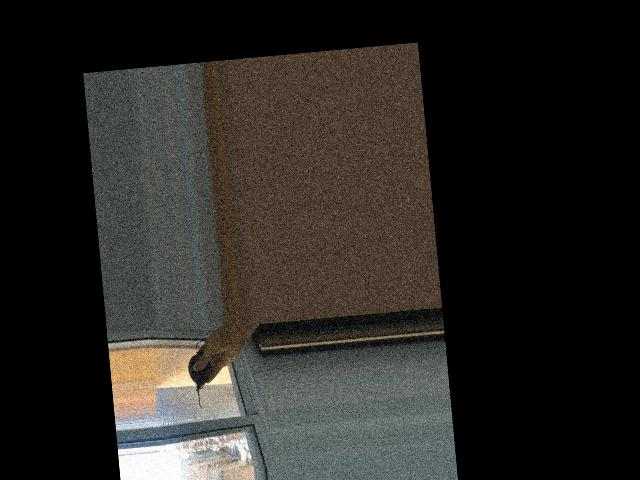beet: (186, 339, 221, 410)
